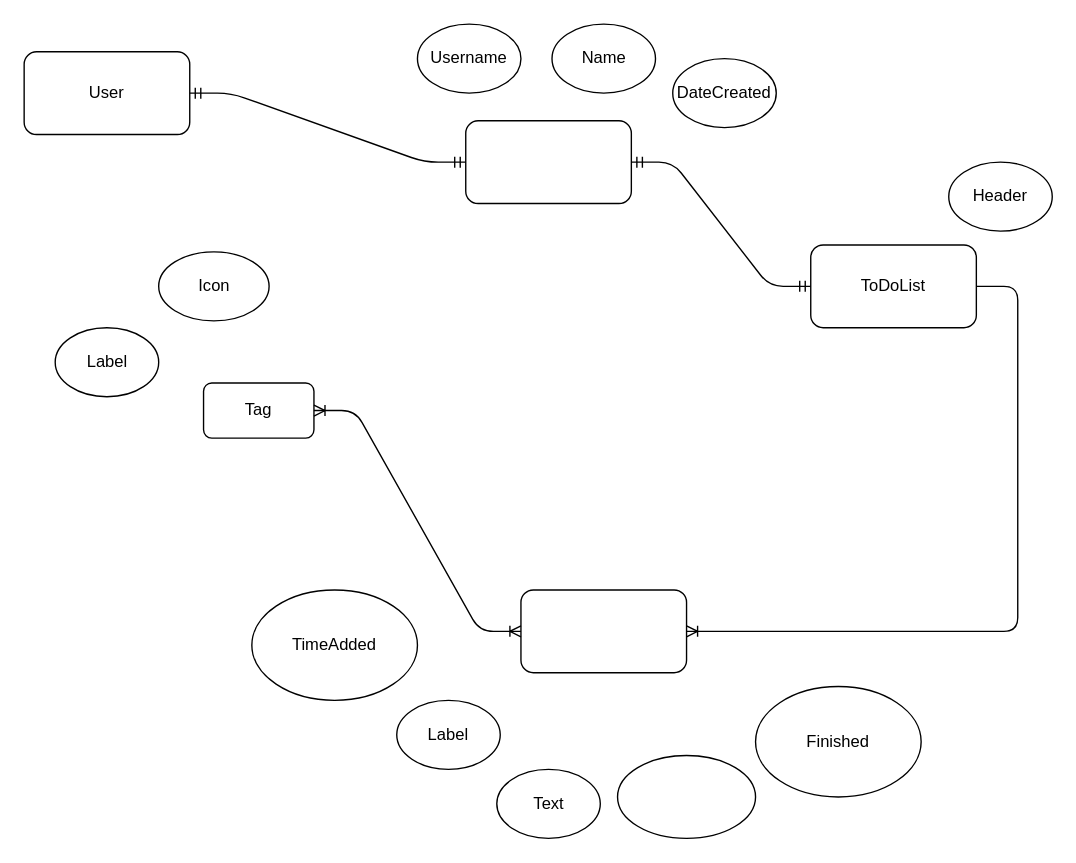
This 1076x863 diagram has some shape labels left out. Here are the shapes that lost their labels. From the top down, the box of each, then its label:
(464, 119, 631, 204): Account
(520, 589, 687, 673): Task
(616, 754, 756, 838): ImageURL
